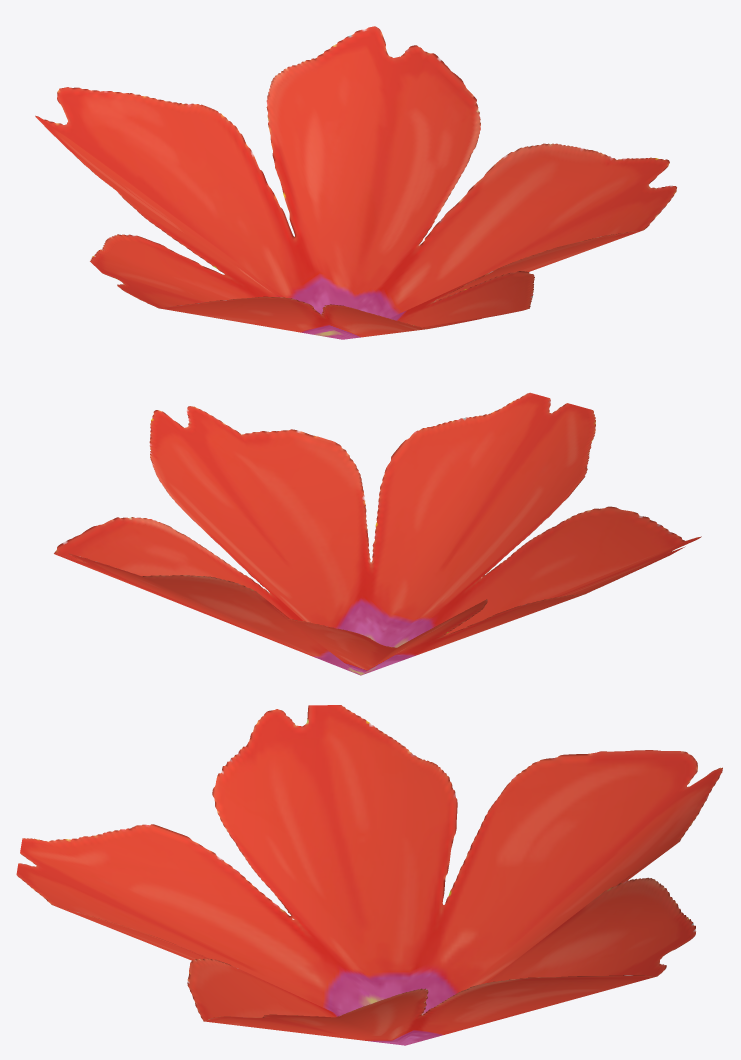
The model's file is nature-petal-3.glb.
3 views of the same model, one above another, from view 1: azimuth 30°, elevation 25°; view 2: azimuth 150°, elevation 25°; view 3: azimuth 270°, elevation 25° (orthographic). The views are drawn at different scales.
Visible parts, largest first — view 1: Petal_3; view 2: Petal_3; view 3: Petal_3.
Part boxes in pixels (x1,y1,x2,y2): Petal_3: (35, 26, 676, 339); Petal_3: (54, 392, 701, 675); Petal_3: (16, 705, 722, 1045).
Bounding box in the file's own units: 0.6195 × 0.1895 × 0.6064.
Materials: 1 (1 with a texture image).
